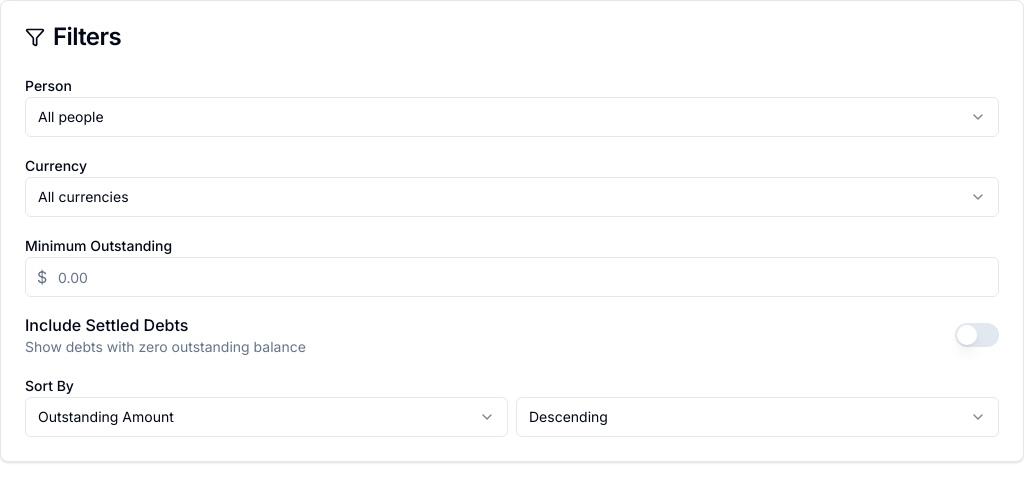
Test: DebtsIOweFilters › uses default currencies when none provided
Click the dropdown named "Currency": point(83, 196) [25,177,999,217]
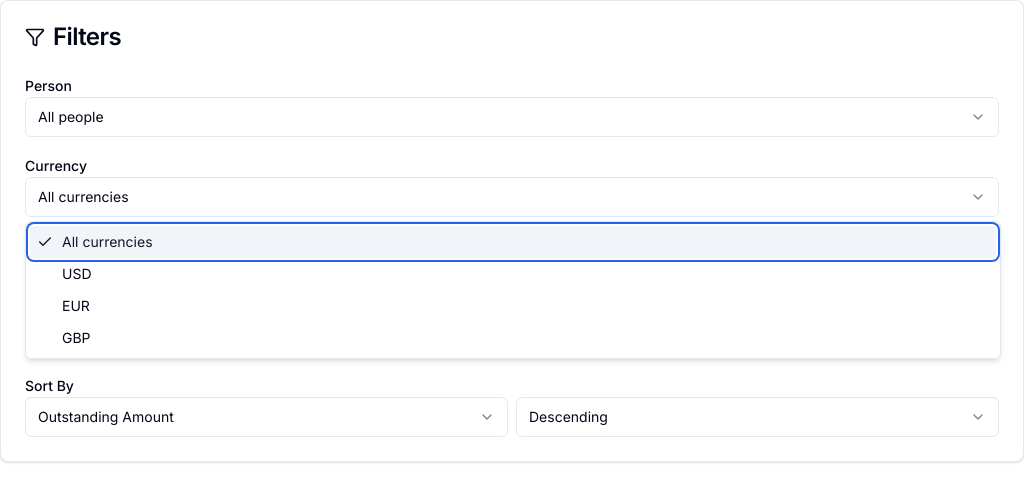
expect the text "USD" is shown: met, box [62,264,92,284]
expect the text "EUR" is shown: met, box [62,296,90,316]
expect the text "GBP" is shown: met, box [62,328,90,348]
